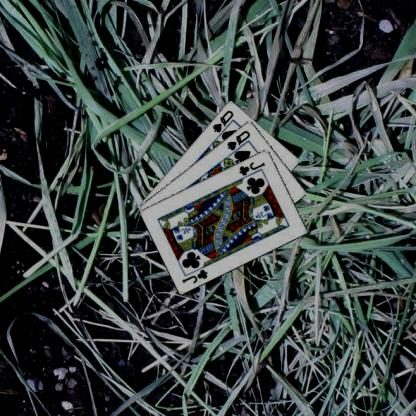JC: (180, 266, 209, 285), (237, 159, 266, 177)
QS: (224, 128, 252, 151), (210, 108, 234, 134)
